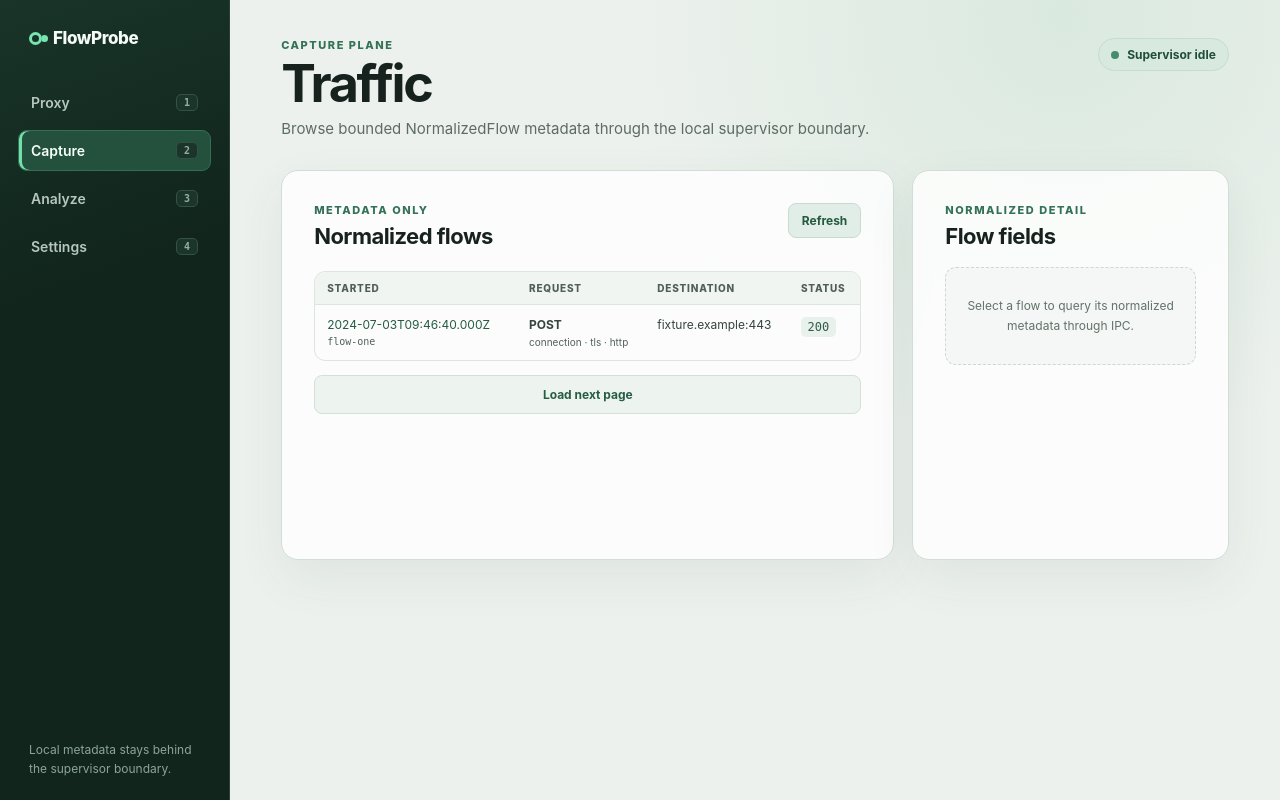
Test case: desktop shell behavior › paginates with opaque cursors, opens detail, closes by keyboard, and refreshes
Check: the button "2024-07-03T09:46:40.000Z flow-one" is shown, box [327, 317, 497, 347]
Click the button "Load next page".
click(588, 395)  # box [314, 375, 861, 414]
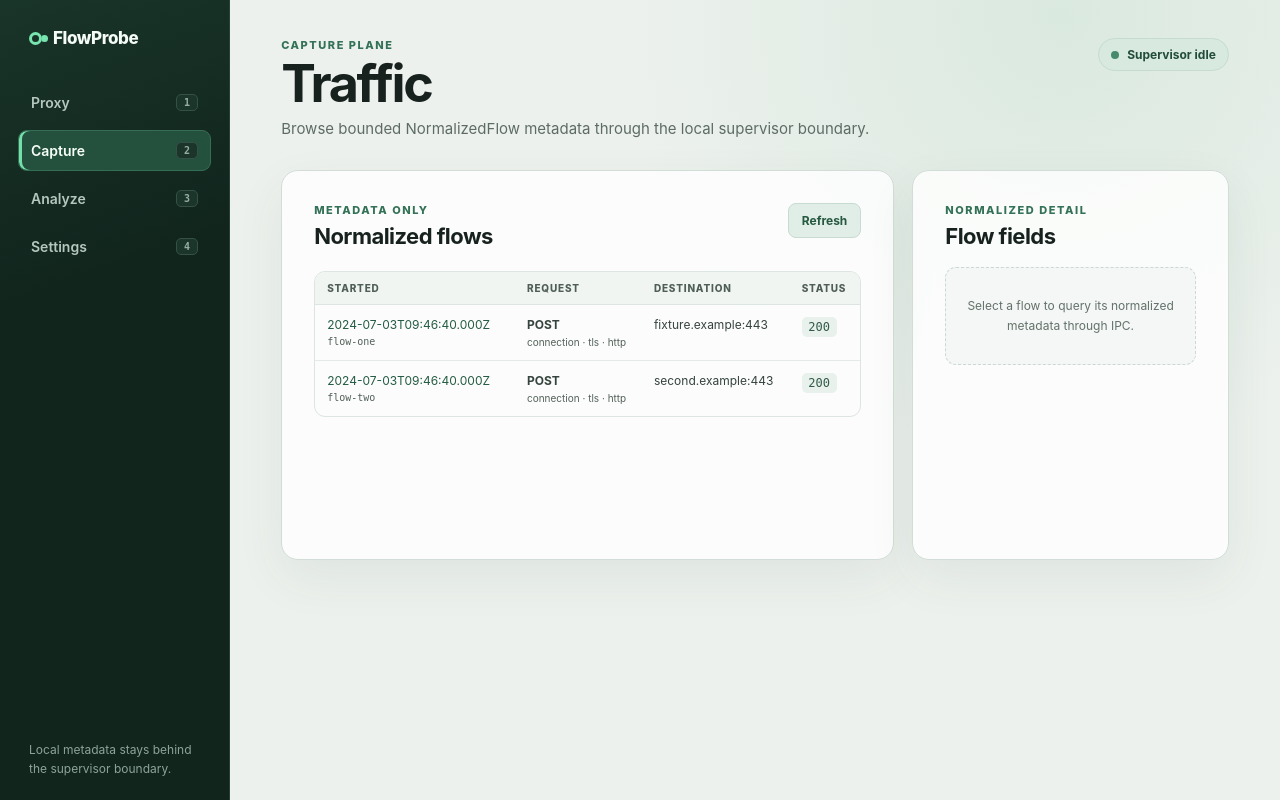
Check: the button "2024-07-03T09:46:40.000Z flow-two" is shown, box [327, 373, 497, 403]
Click the button "2024-07-03T09:46:40.000Z flow-one".
click(412, 332)  # box [327, 317, 497, 347]
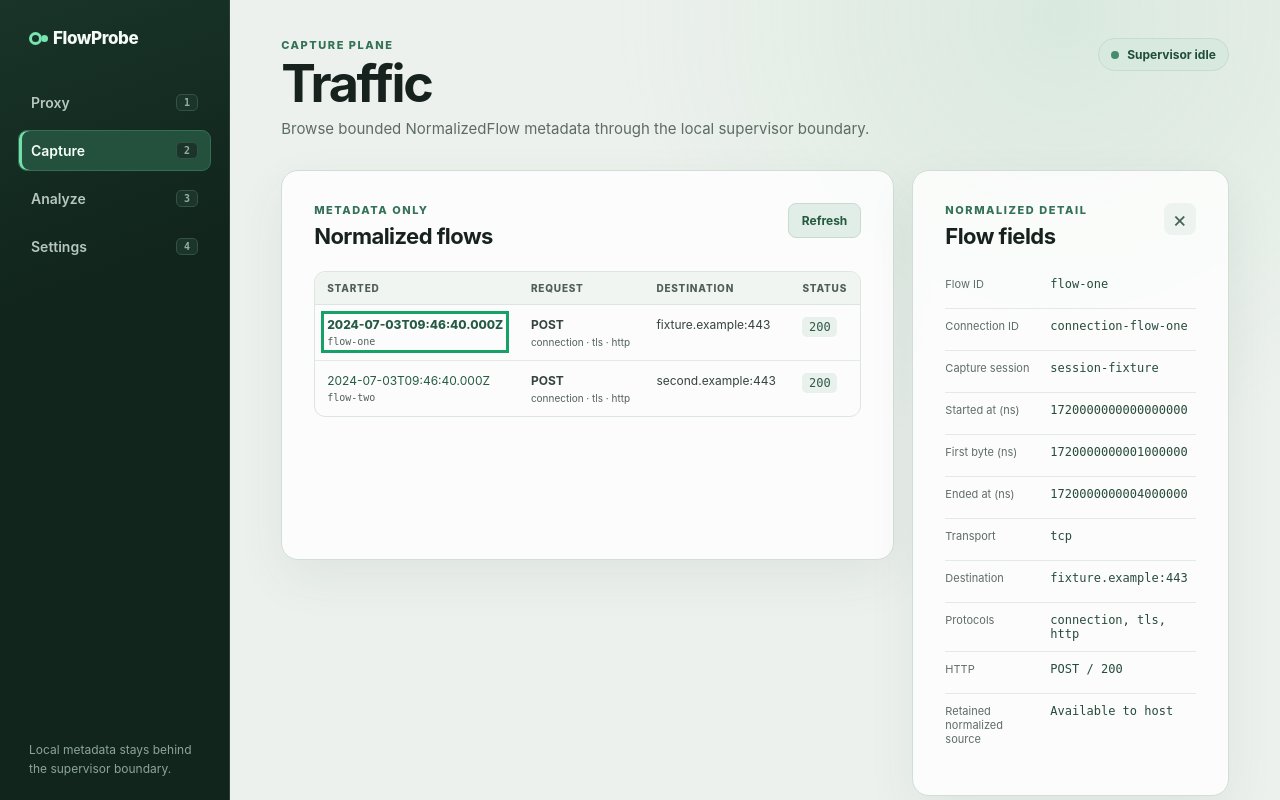
Check: the text "connection-flow-one" is shown, box [1050, 319, 1196, 340]
Press Escape
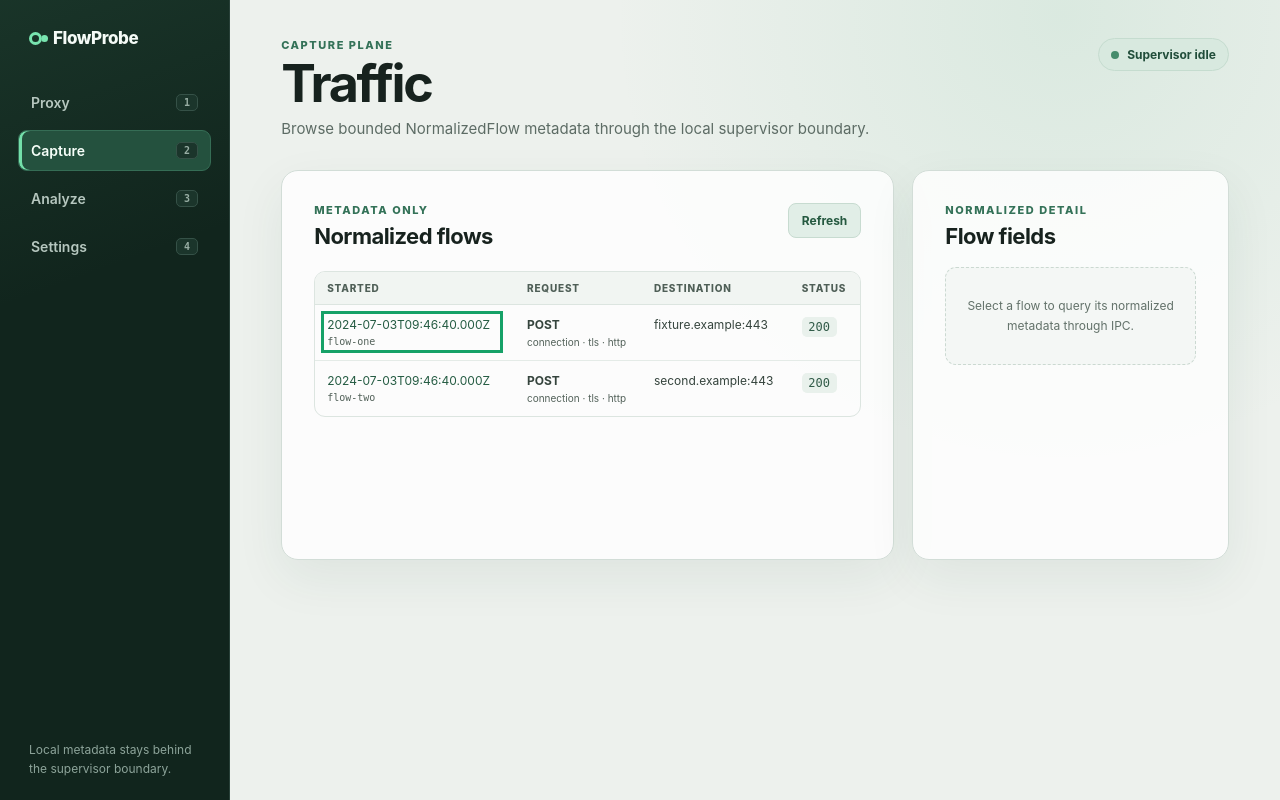
Check: the text "connection-flow-one" is gone
Check: the text "Select a flow to query its normalized metadata through IPC." is shown, box [964, 296, 1177, 336]
Click the button "Refresh".
click(825, 221)  # box [788, 203, 861, 238]
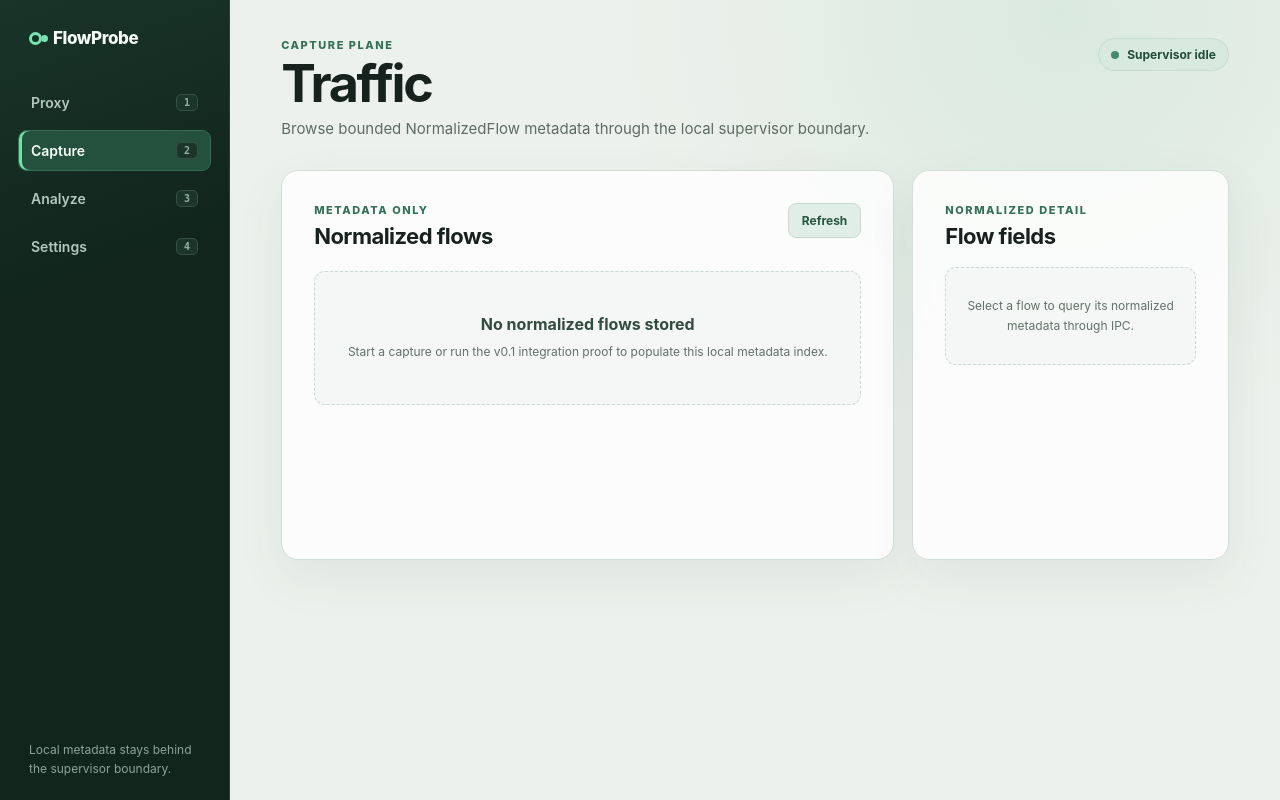
Check: the heading "No normalized flows stored" is shown, box [481, 314, 695, 334]
